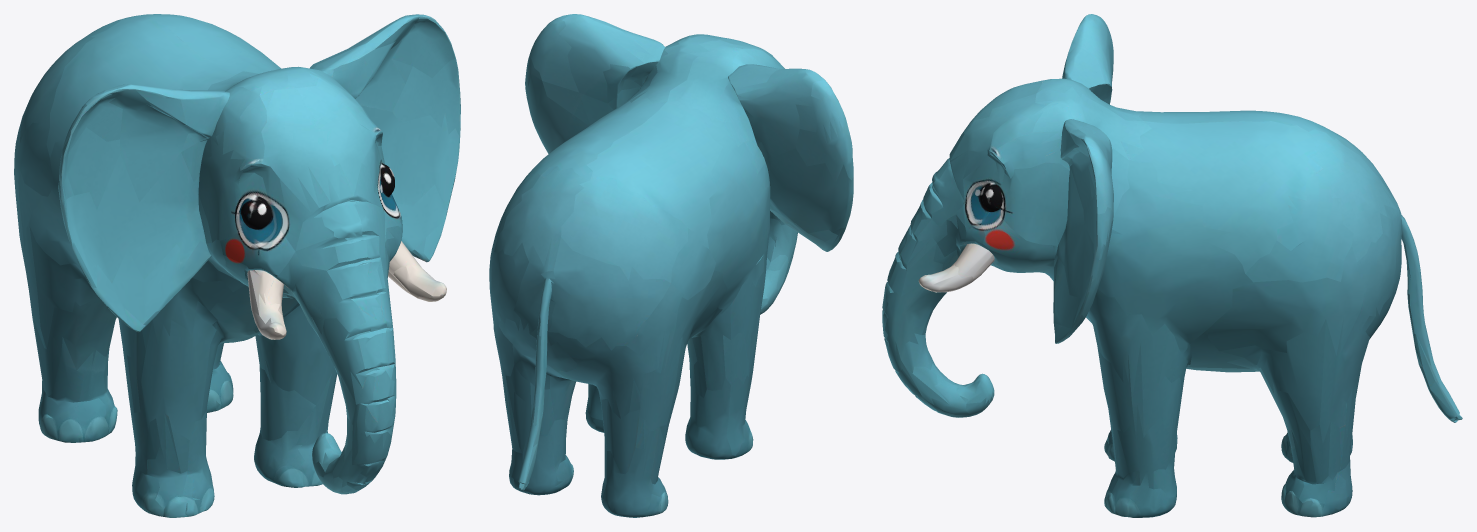
Rendered from skill-postgres.glb.
3 views of the same model, side by side, from view 1: azimuth 30°, elevation 25°; view 2: azimuth 150°, elevation 25°; view 3: azimuth 270°, elevation 25° (orthographic). The views are drawn at different scales.
Bounding box in the file's own units: 1.32 × 1.45 × 1.9.
1 material, 1 textured.
